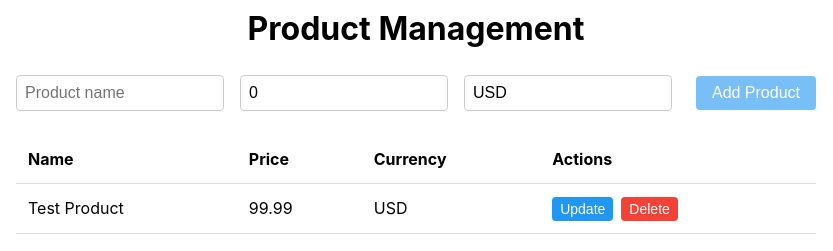
Test case: App Component › prevents creating duplicate product names
Step 1. Type "Test Product" into the field with placeholder "Product name" → (120, 93), box [16, 75, 224, 111]
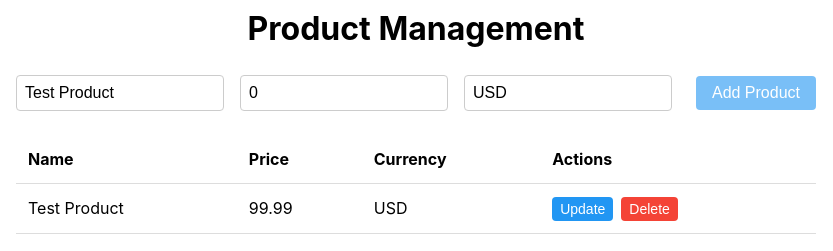
Step 2. Replace the text in the number field with placeholder "Price" with "199.99" → (344, 93), box [240, 75, 448, 111]
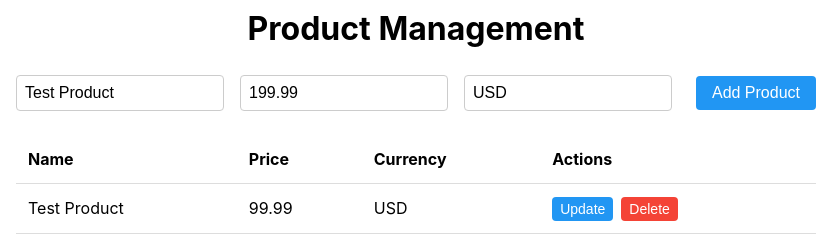
Step 3. Replace the text in the 2nd field with placeholder "Currency" with "EUR" → (568, 93), box [464, 75, 672, 111]
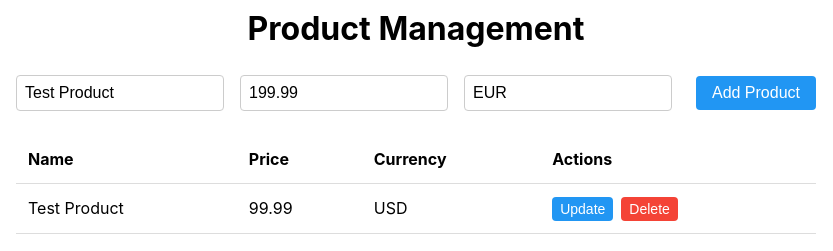
Step 4. Click the button "Add Product" → click(756, 93), box [696, 76, 816, 110]
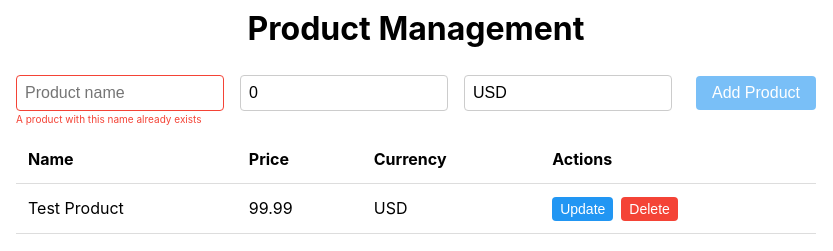
Now the text "A product with this name already exists" is shown, box [16, 113, 202, 126]
